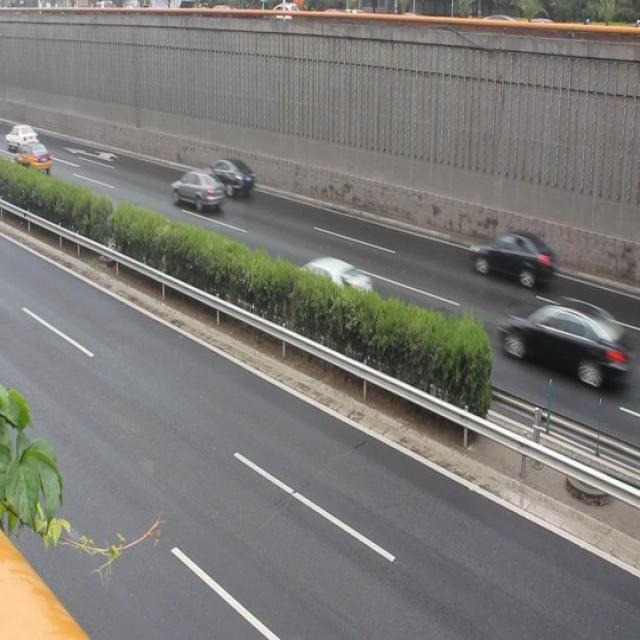car: (495, 288, 621, 402), (464, 226, 554, 287), (292, 249, 376, 306), (170, 166, 222, 216), (205, 152, 254, 192), (16, 140, 55, 178)
